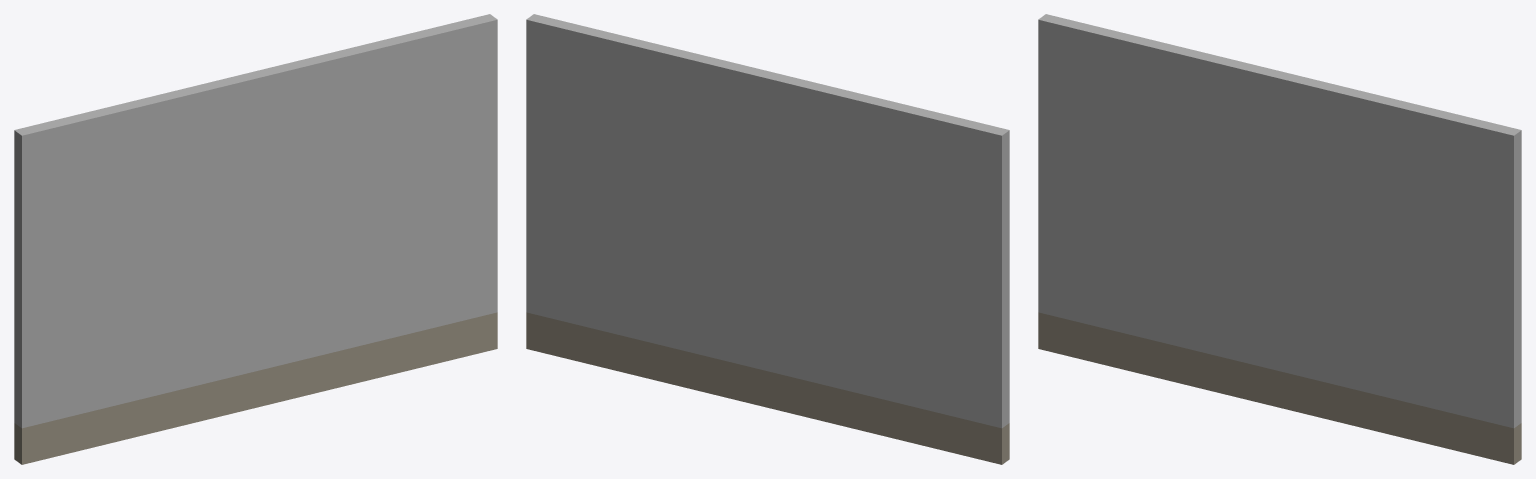
File: Wall.fbx
3 renders of one model, left to right at view 1: azimuth 30°, elevation 25°; view 2: azimuth 150°, elevation 25°; view 3: azimuth 330°, elevation 25°, orthographic.
Visible parts, largest first — view 1: school_wall_036; view 2: school_wall_036; view 3: school_wall_036.
Part boxes in pixels (<box>): school_wall_036: <box>14,14,497,464</box>; school_wall_036: <box>526,14,1009,464</box>; school_wall_036: <box>1038,14,1521,464</box>.
Size of the model in its own units: 415 by 274 by 11.71.
